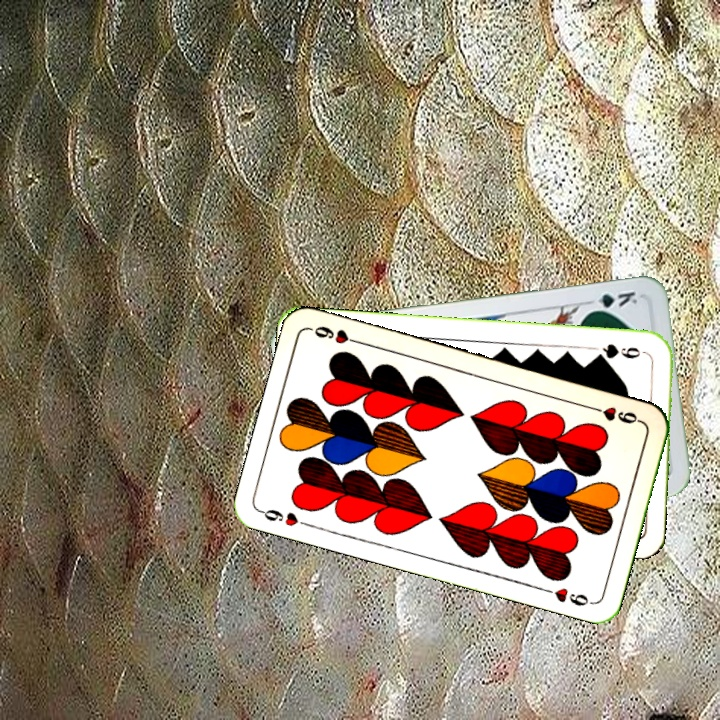G9: (591, 339, 650, 361)
GK: (582, 287, 640, 315)
H9: (586, 402, 644, 427), (257, 505, 315, 530)
